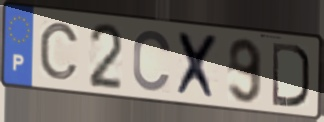2: (87, 21, 125, 92)
9: (226, 36, 264, 105)
C: (130, 28, 174, 94), (37, 21, 81, 82)
D: (271, 39, 312, 110)
X: (174, 29, 222, 103)
